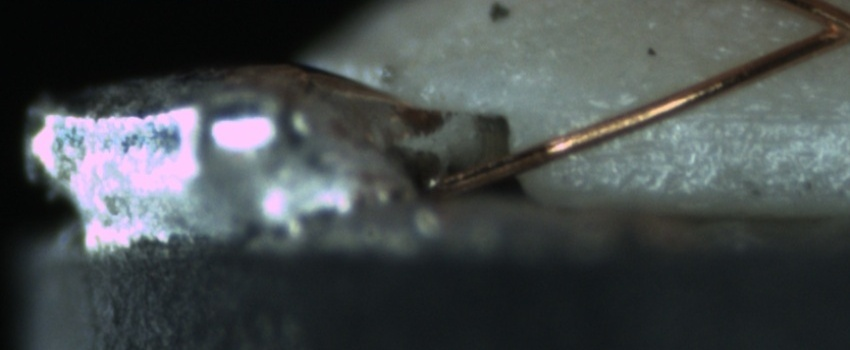CL: (794, 4, 850, 56)
DL: (578, 84, 841, 148)
